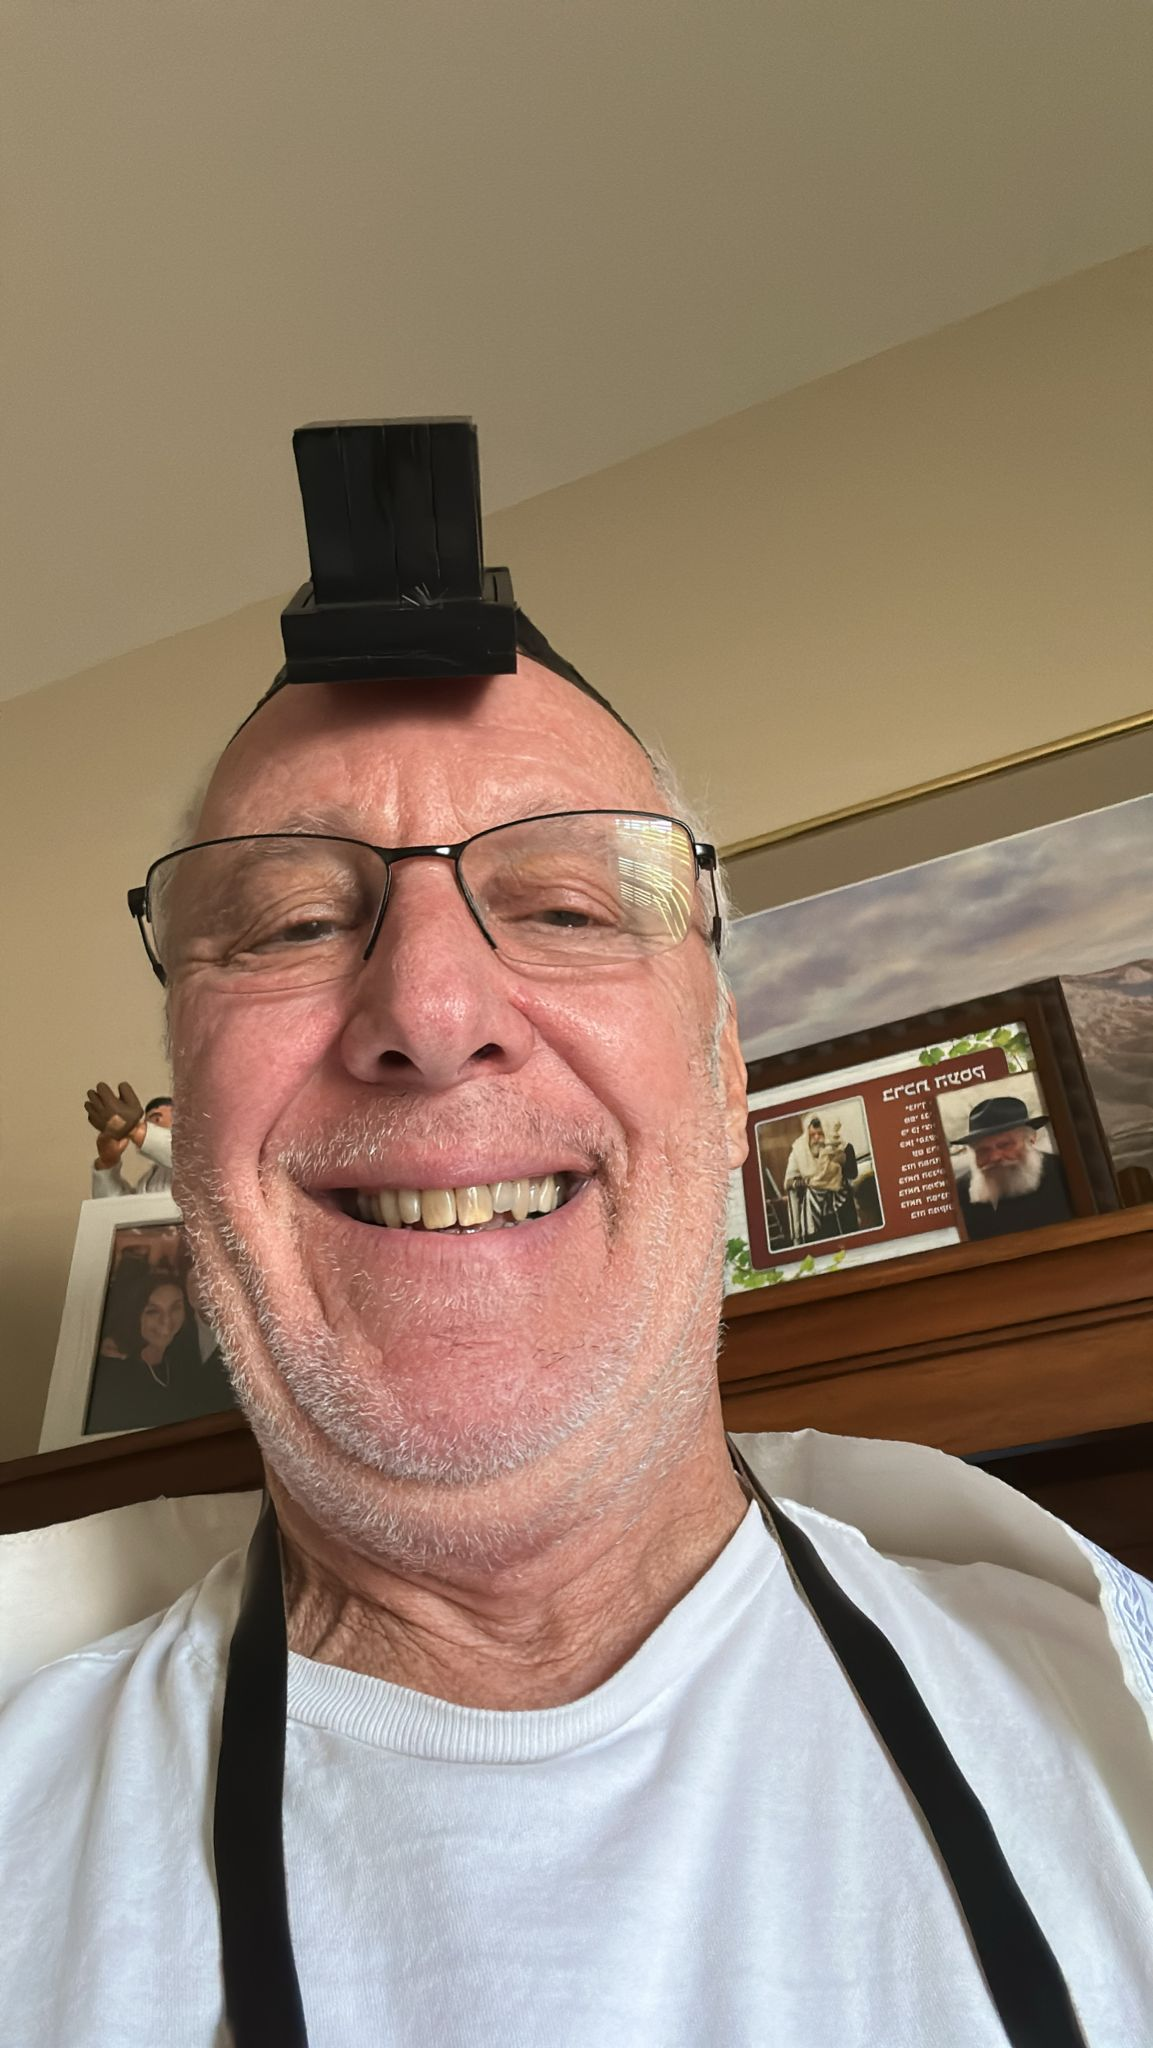tefillin: (278, 418, 523, 681)
